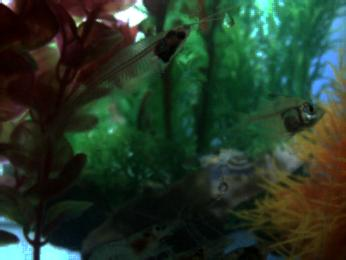X-ray fish: (226, 93, 328, 141), (217, 239, 274, 260)
glassfish: (27, 23, 193, 156)
siberian prawn: (83, 220, 181, 260)
